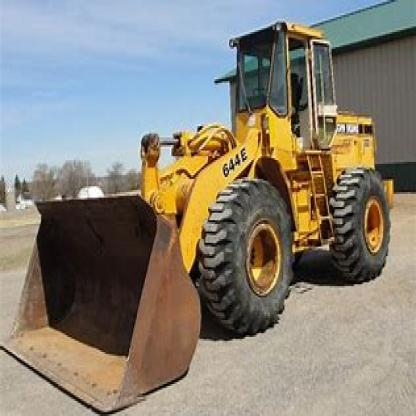bull_dozer/loader/grader: (0, 11, 392, 414)
